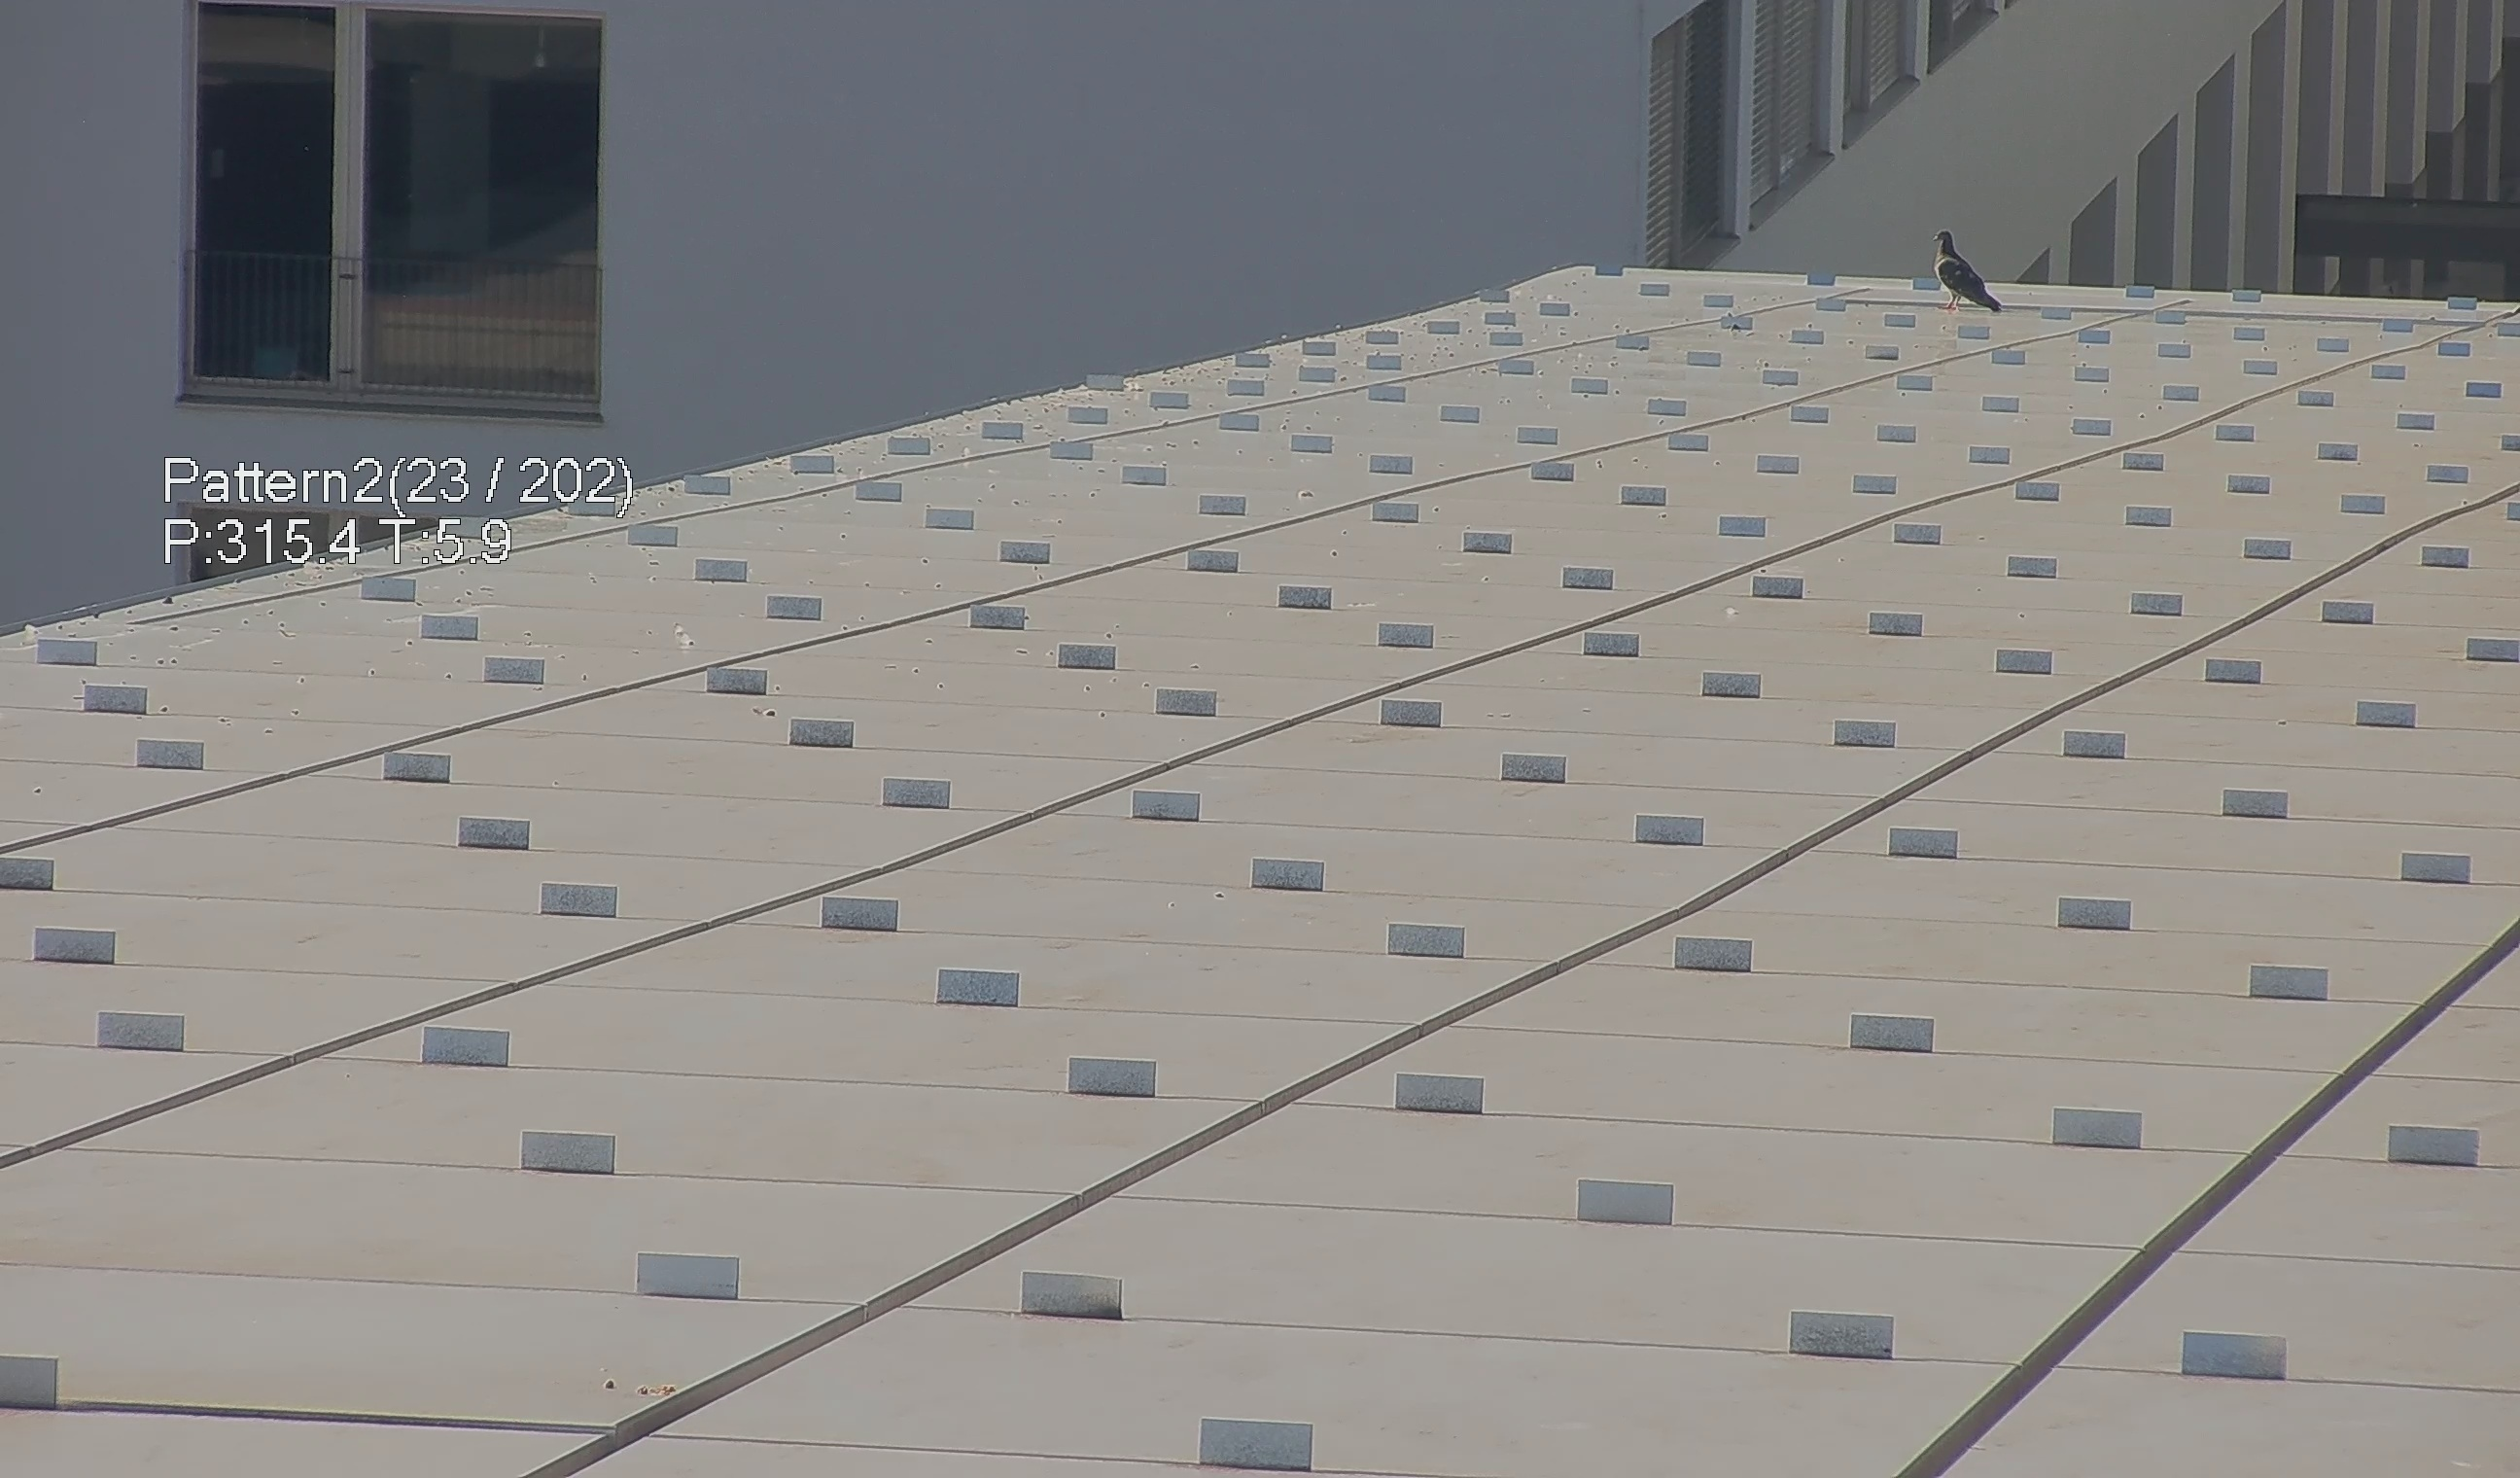Pigeon: (1929, 223, 2010, 322)
